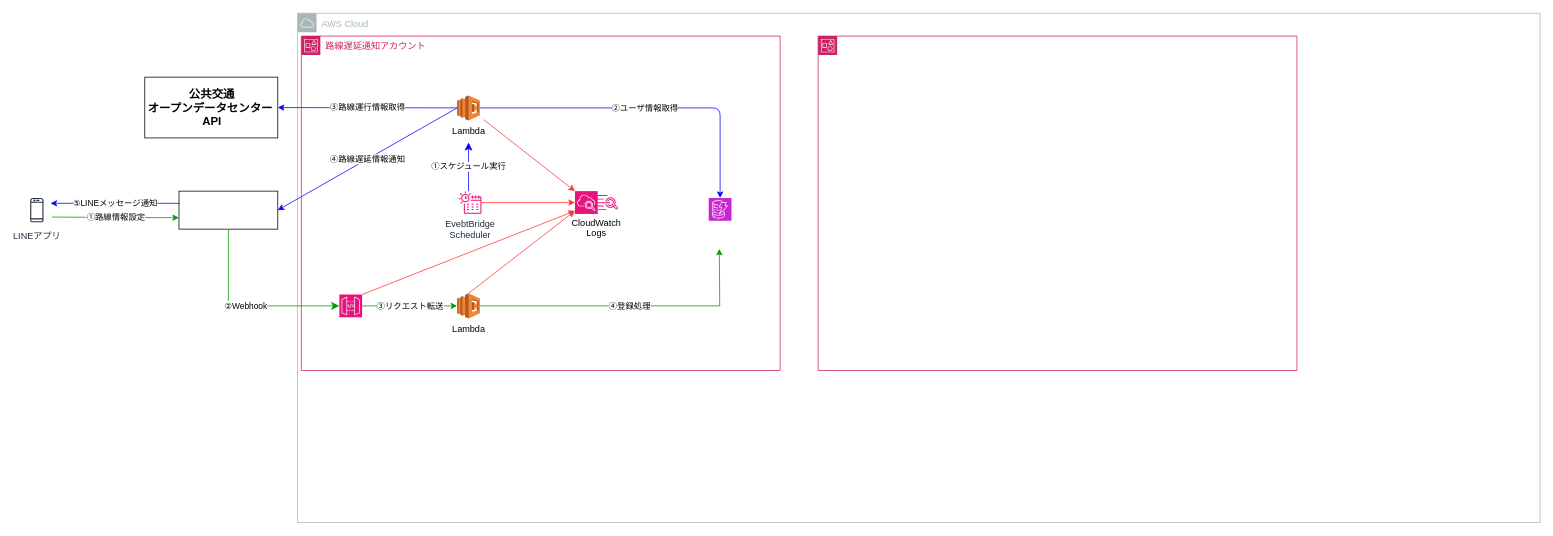
Image size: 1553x536. Some labels were removed from this diagram. Each missing label, with the centre of its shape:
API Gateway: (x=350, y=305)
DynamoDB: (x=720, y=209)
LINE Platform: (x=228, y=209)
管理アカウント: (x=1057, y=202)
